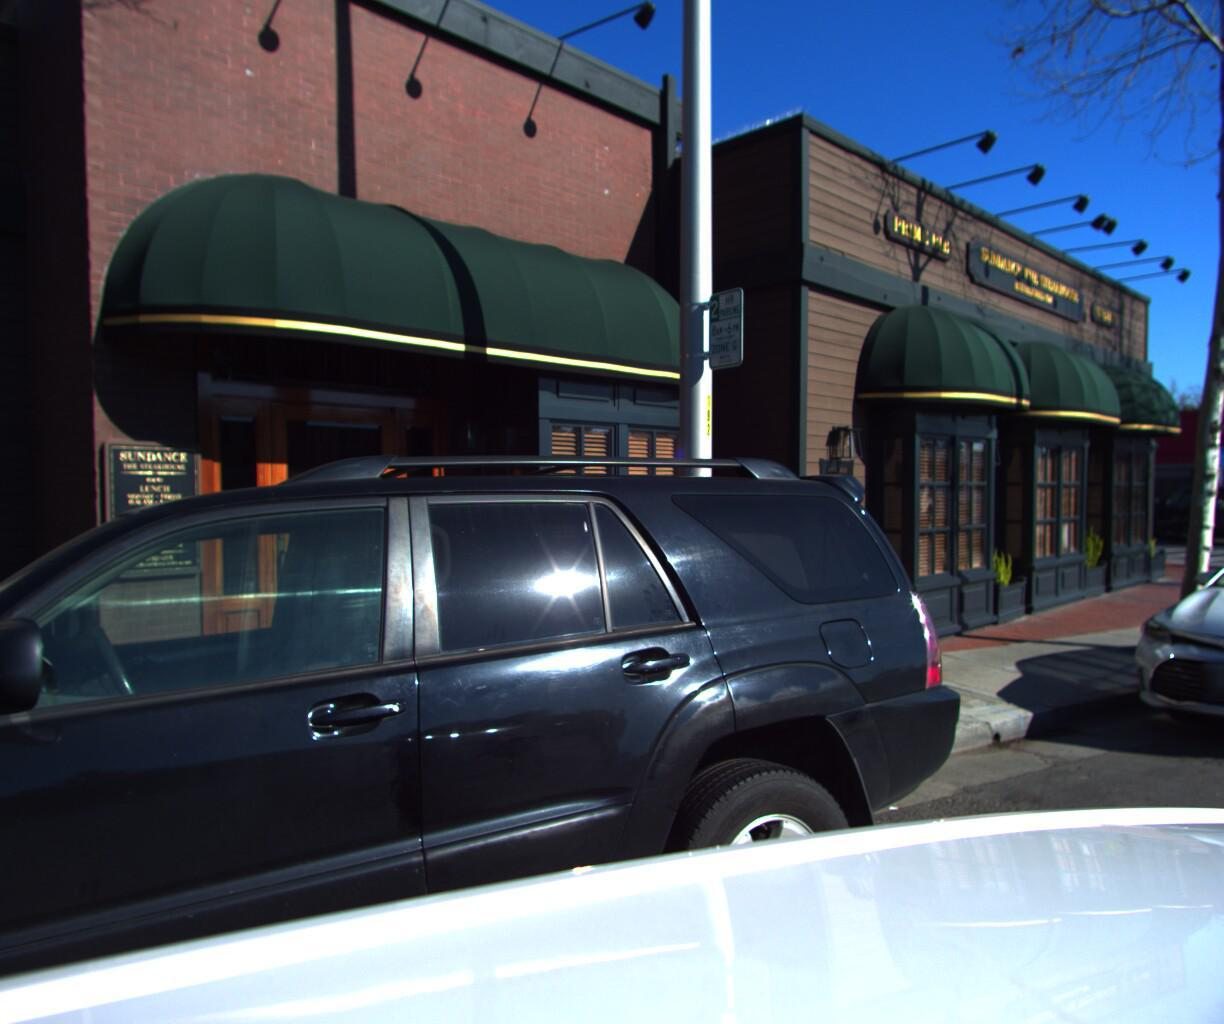car: (0, 231, 1004, 1024), (1098, 493, 1224, 807), (1139, 471, 1224, 540)
